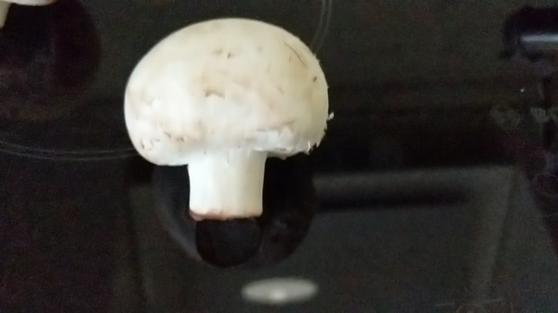champignon: (122, 16, 332, 220)
